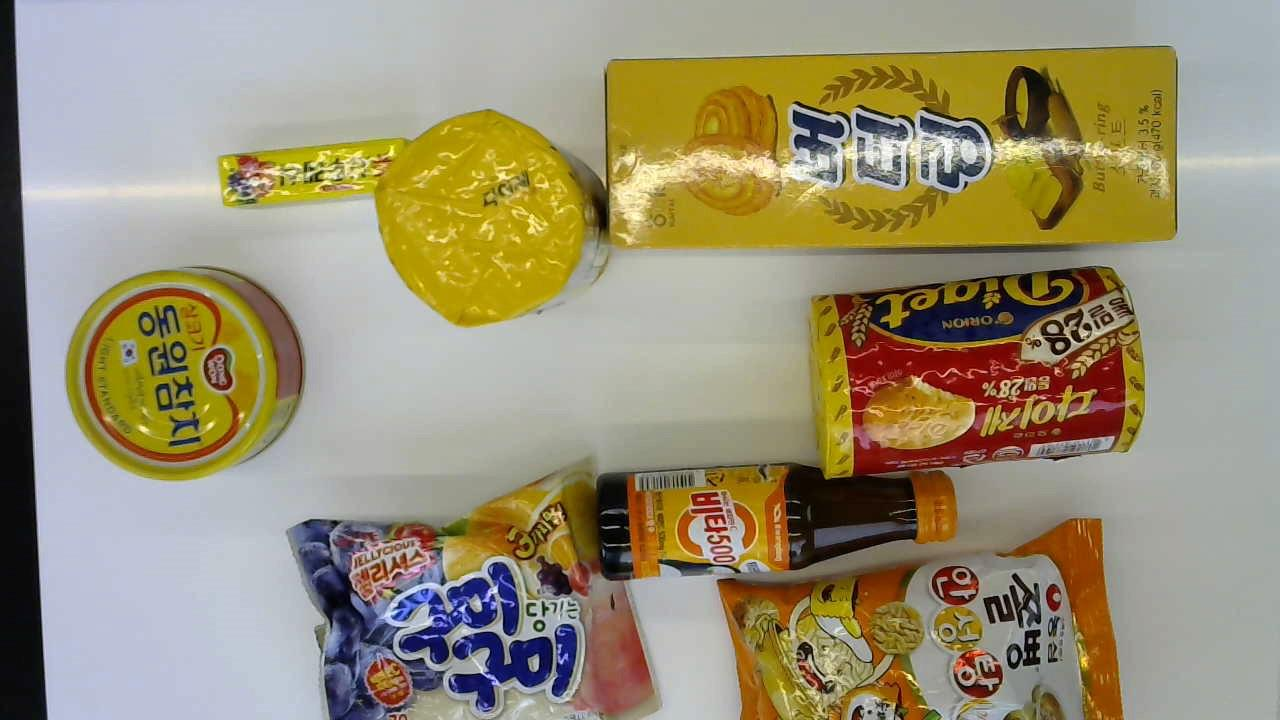buttering: (604, 40, 1177, 245)
diget_choco: (376, 112, 607, 326)
diget_ori: (806, 266, 1144, 473)
gumi_gumi: (291, 471, 664, 718)
jjolbyung_noodle: (715, 527, 1128, 718)
juicyfresh: (218, 140, 408, 205)
tuna: (67, 267, 299, 475)
vita500: (598, 460, 954, 581)
